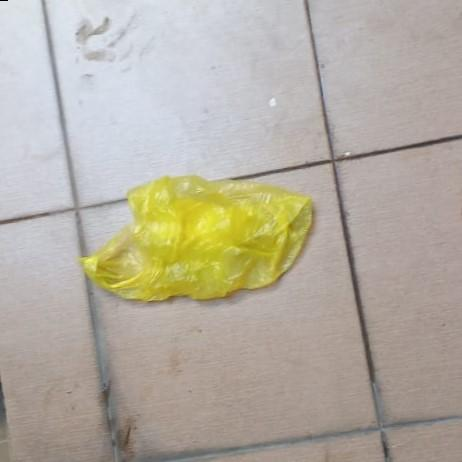Plastik: (78, 176, 313, 301)
